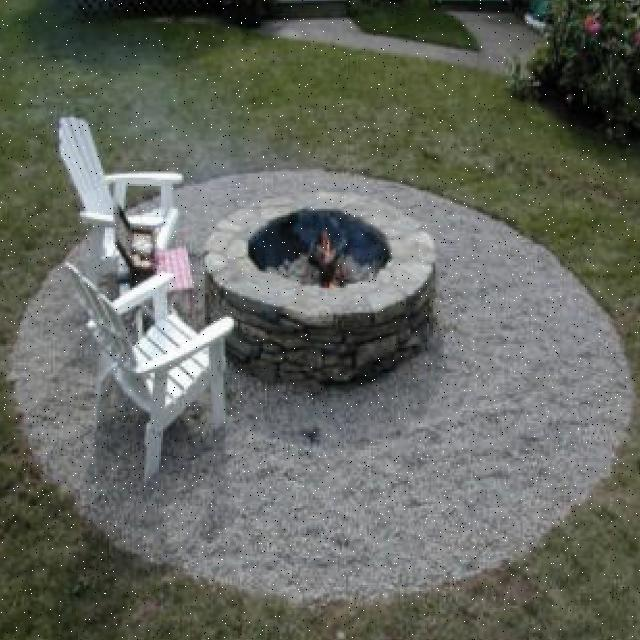fire: (316, 228, 340, 284)
smoke: (294, 202, 319, 255)
